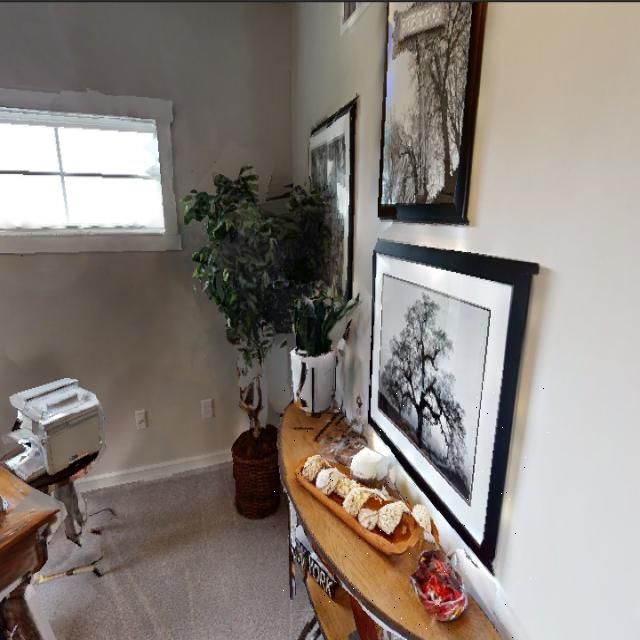table: (274, 379, 549, 640)
